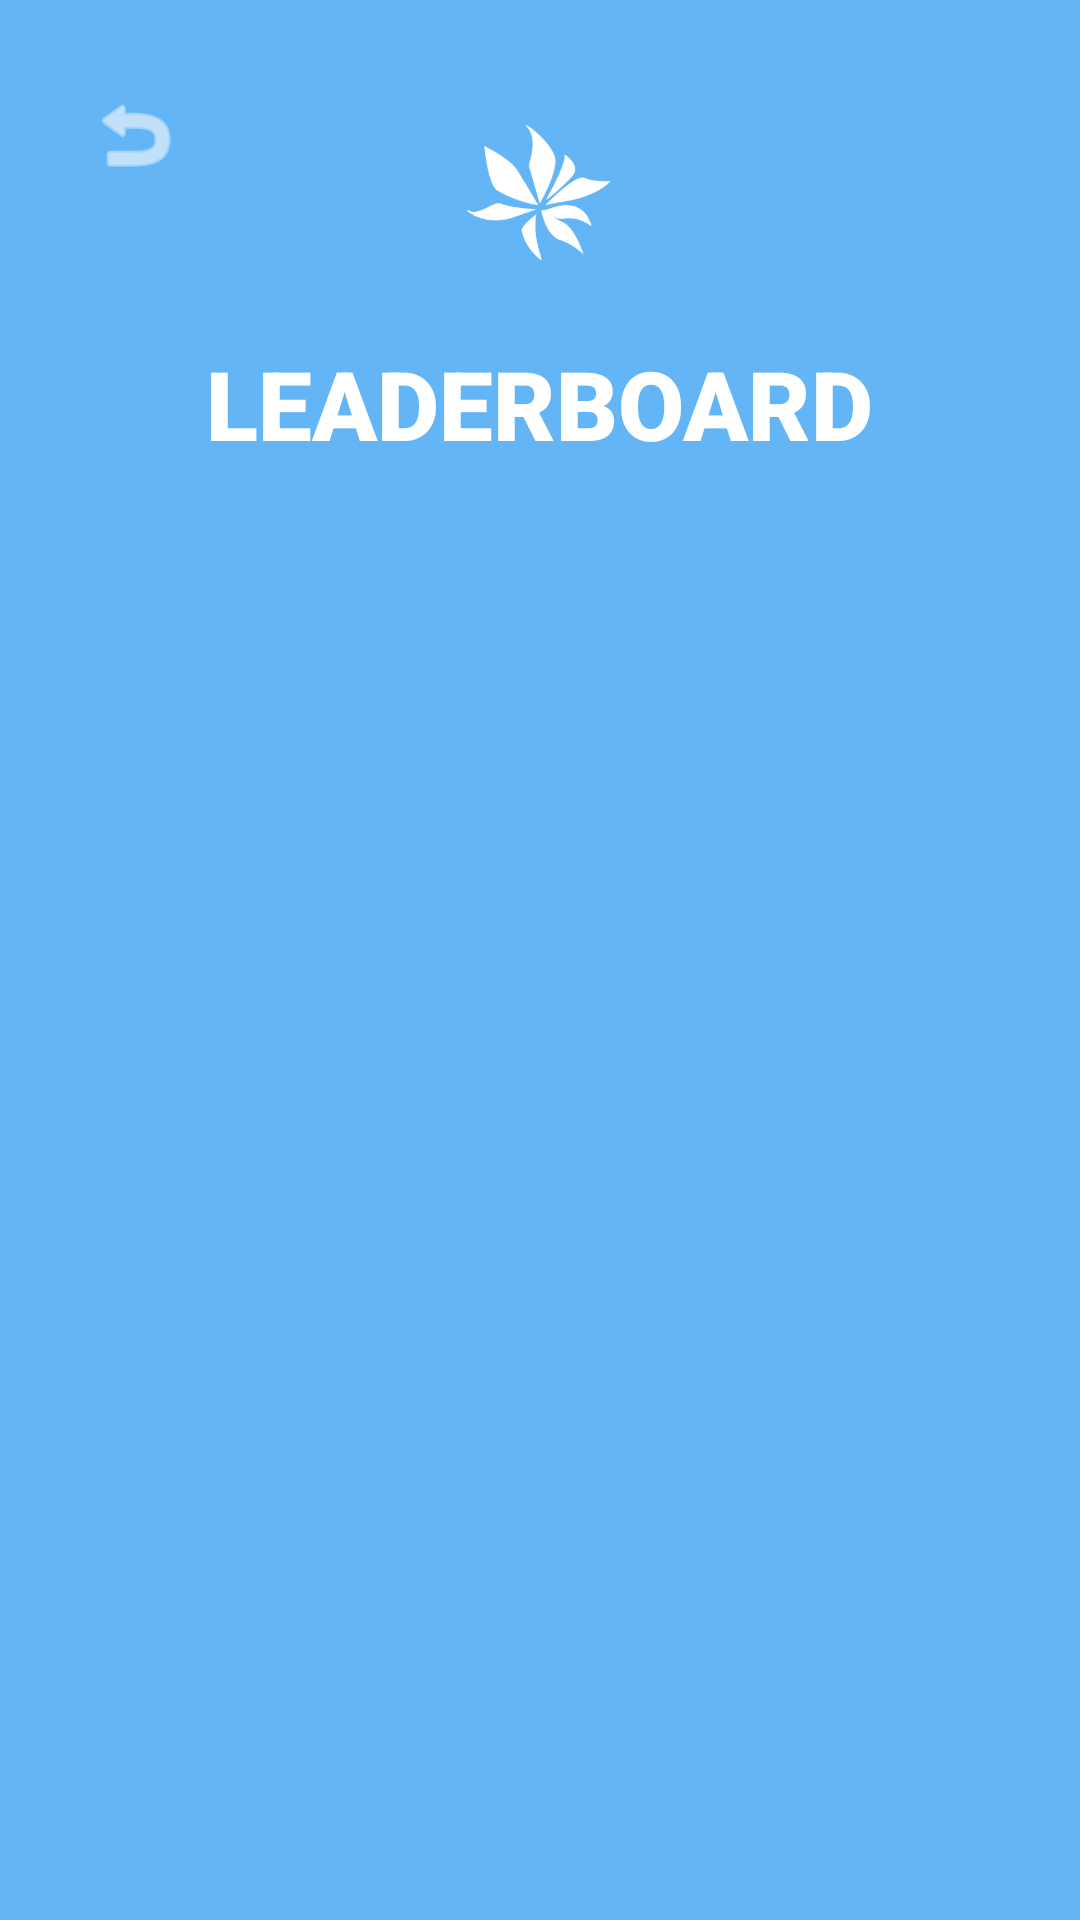

Screen size 1080px×1920px. Icon name, then its box in pixels as (x1, y1, x2, y2):
revert: (102, 105, 171, 167)
